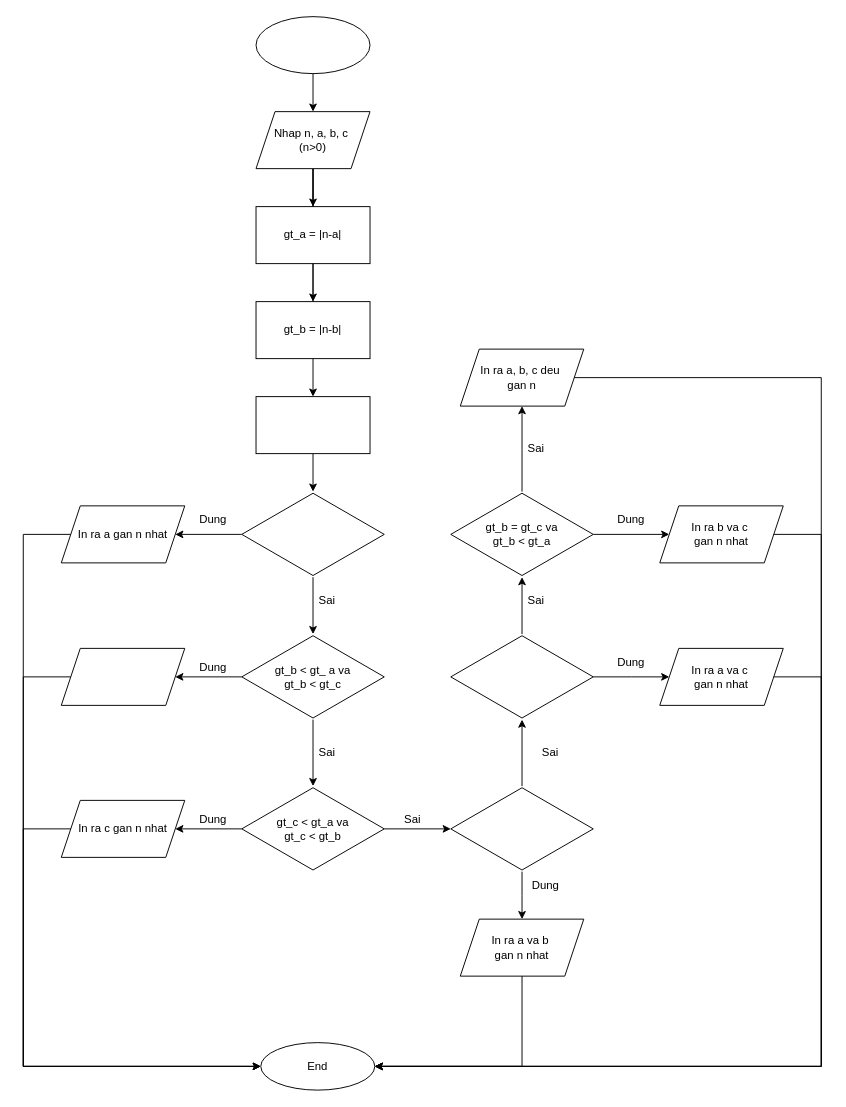
The diagram is 846 pixels wide and 1107 high, and some of its shapes have lost their labels. Here are the shapes that lost their labels. From the top down, the centre of each, then its label:
pixel 312 45: Start
pixel 312 425: gt_c = |n-c|
pixel 312 534: gt_a < gt_b va gt_a < gt_c
pixel 122 676: In ra b gan n nhat
pixel 521 676: gt_a = gt_c va gt_a < gt_b
pixel 521 828: gt_a = gt_b va gt_a < gt_c
